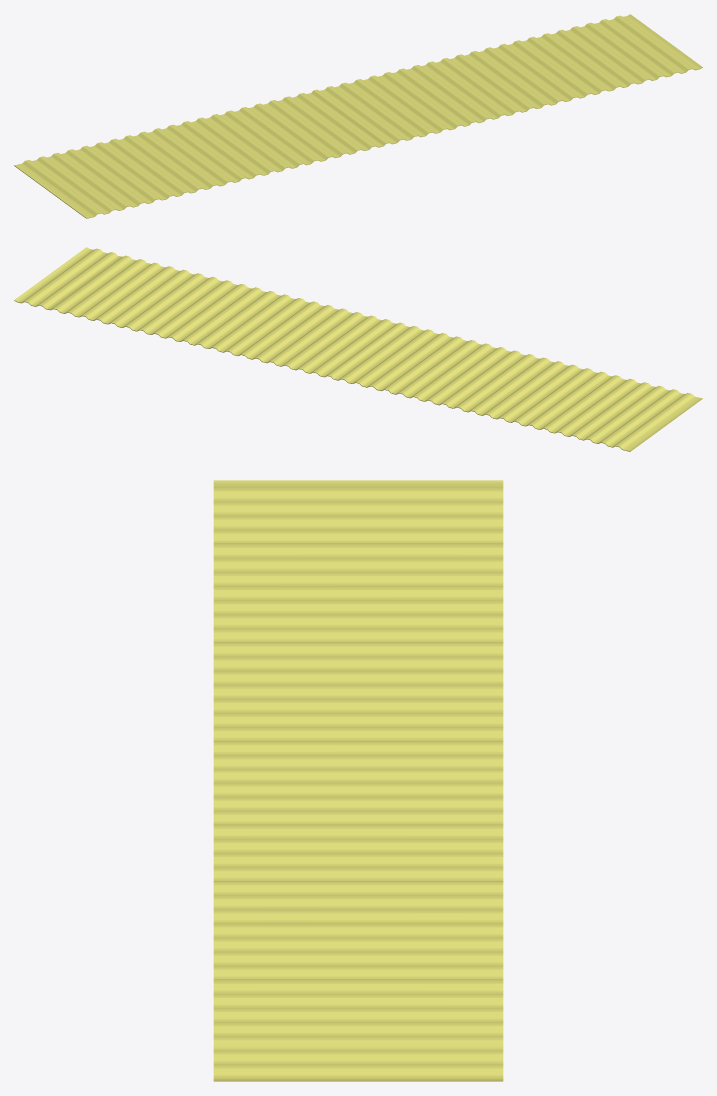
Rendered from ceiling-sprayfoam.glb.
The picture shows the model from 3 angles, top to bottom: view 1: azimuth 30°, elevation 25°; view 2: azimuth 150°, elevation 25°; view 3: azimuth 270°, elevation 25°; orthographic projection. The views are drawn at different scales.
Visible parts, largest first — view 1: 40FT HC Sprayfoam_Ceiling; view 2: 40FT HC Sprayfoam_Ceiling; view 3: 40FT HC Sprayfoam_Ceiling.
Boxes of the visible parts, left/top/right/bottom form: 40FT HC Sprayfoam_Ceiling: left=14, top=14, right=702, bottom=218; 40FT HC Sprayfoam_Ceiling: left=14, top=247, right=702, bottom=451; 40FT HC Sprayfoam_Ceiling: left=213, top=480, right=503, bottom=1081.
Bounding box in the file's own units: 11.64 × 0.0464 × 2.37.
